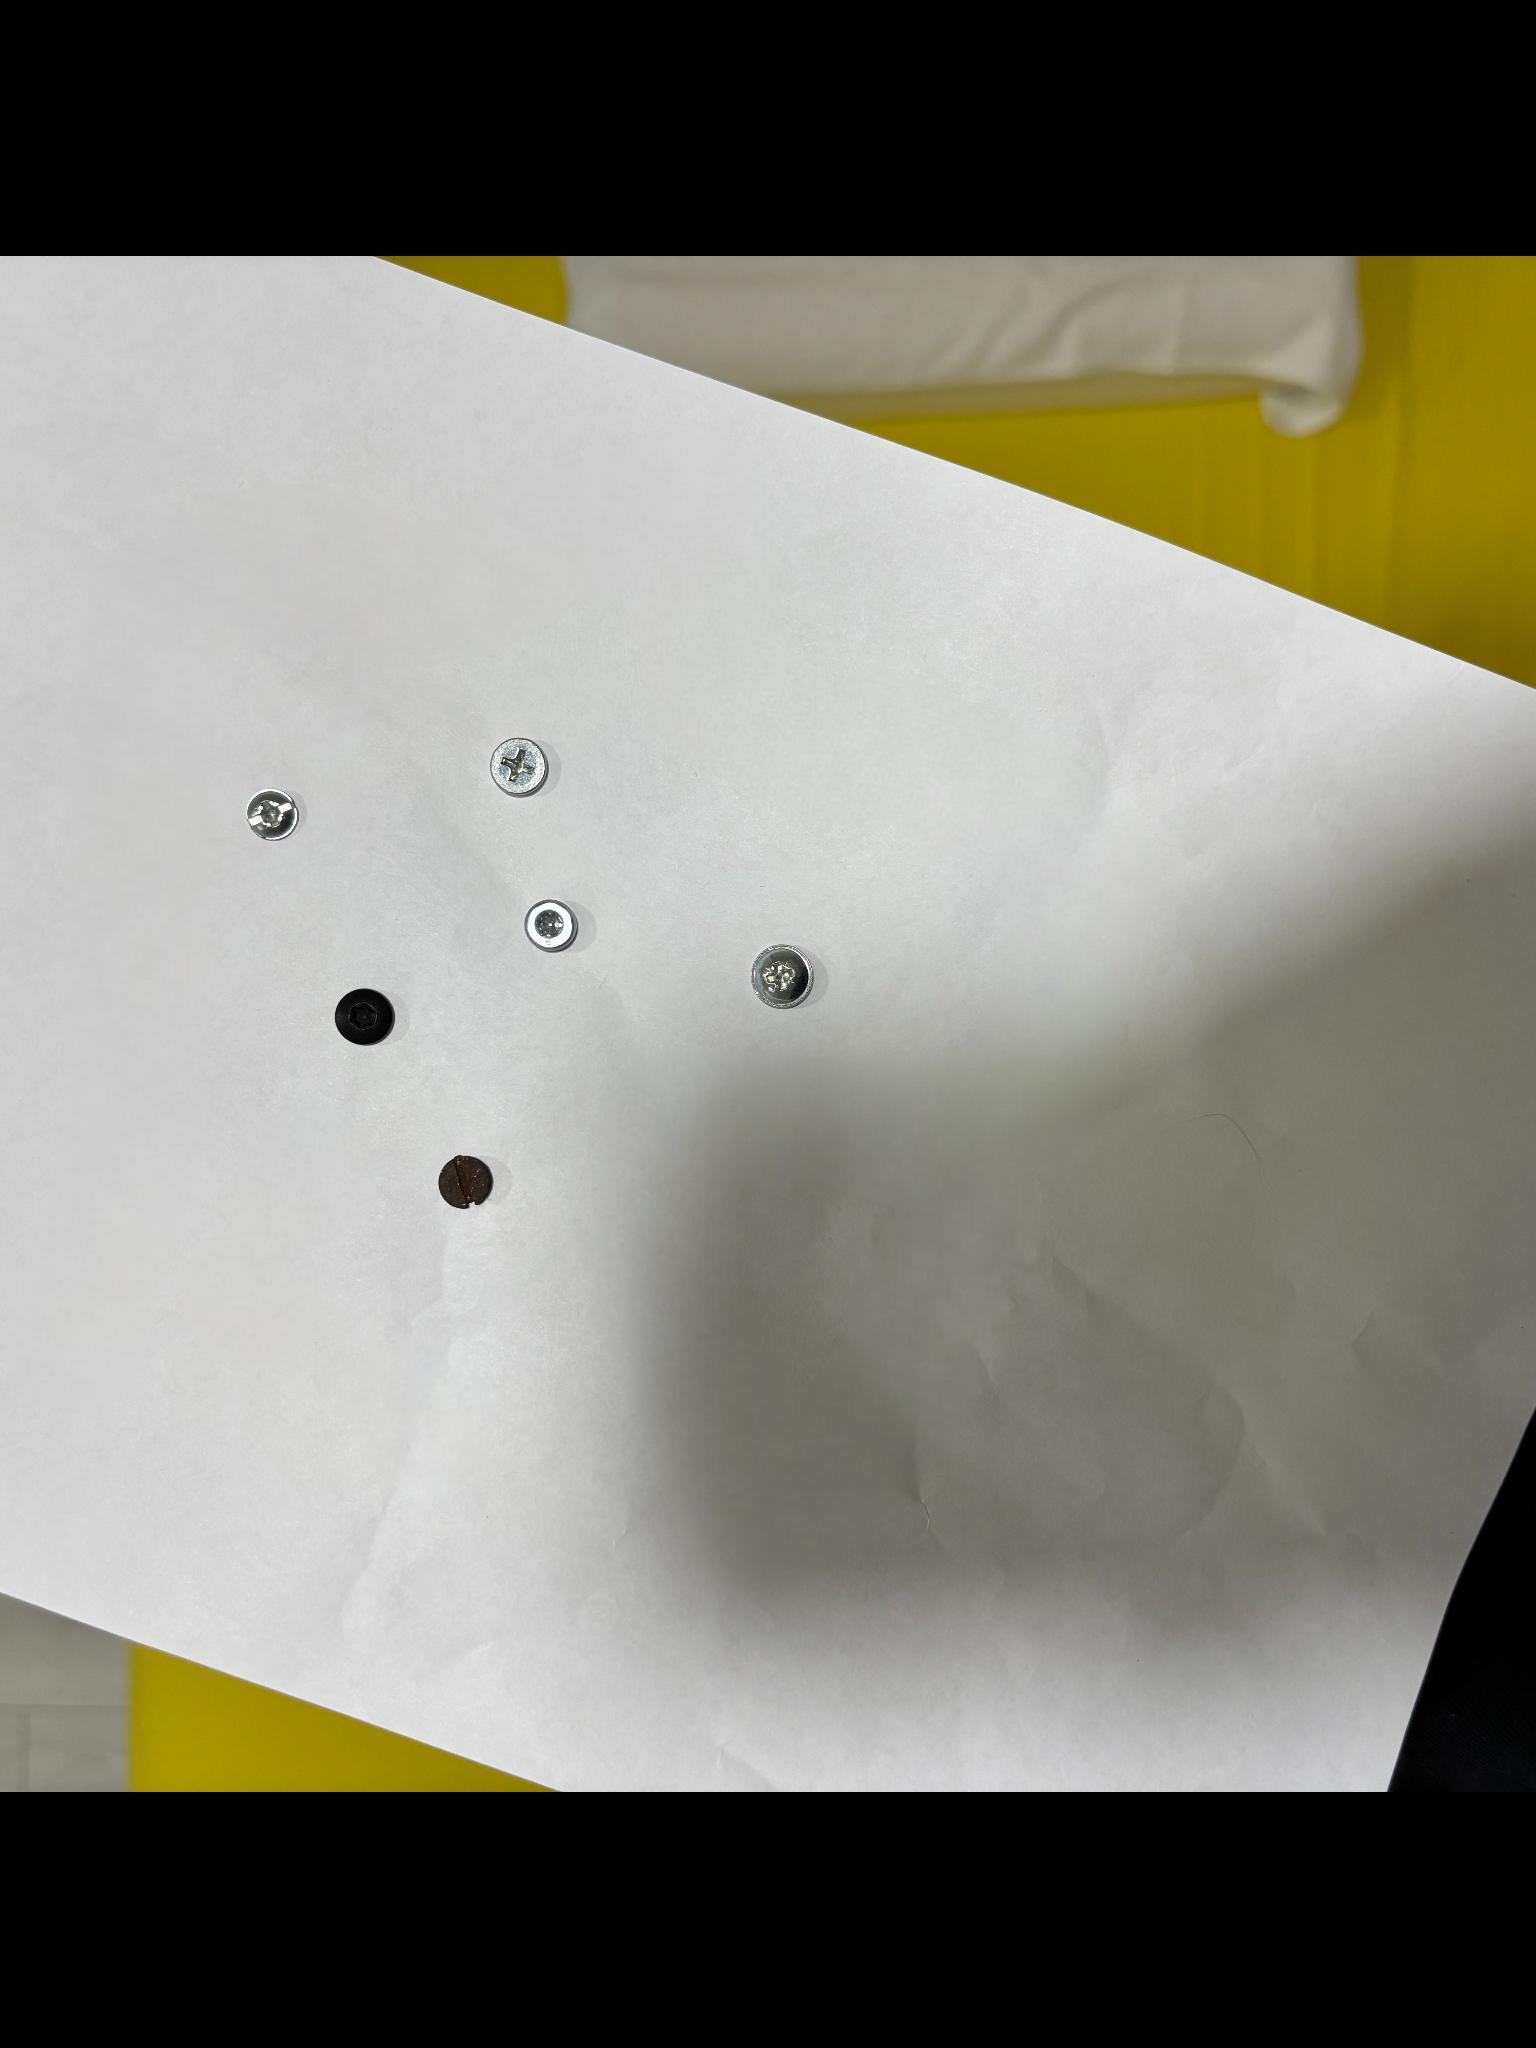H: (334, 989, 392, 1045)
PH: (489, 739, 549, 797)
PZ: (749, 945, 812, 1009), (245, 790, 298, 840)
SL: (437, 1155, 492, 1209)
T: (524, 900, 576, 953)
